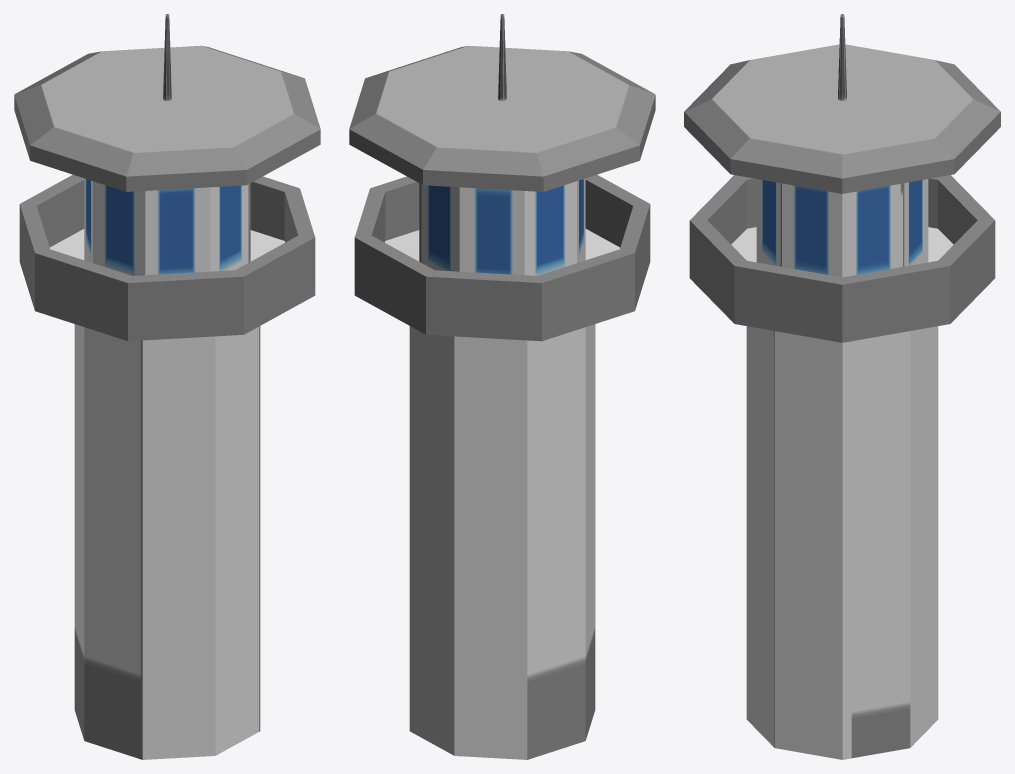
The model's file is GuardPoint_03.fbx.
3 views of the same model, side by side, from view 1: azimuth 30°, elevation 25°; view 2: azimuth 150°, elevation 25°; view 3: azimuth 270°, elevation 25° (orthographic).
Parts seen in each view (by area): view 1: GuardPoint_03_Body; view 2: GuardPoint_03_Body; view 3: GuardPoint_03_Body.
Boxes of the visible parts, x1,y1,x2,y2 form: GuardPoint_03_Body: (14,14,320,759); GuardPoint_03_Body: (349,14,655,759); GuardPoint_03_Body: (684,14,1000,759).
Bounding box in the file's own units: 23.13 × 56.78 × 23.13.
